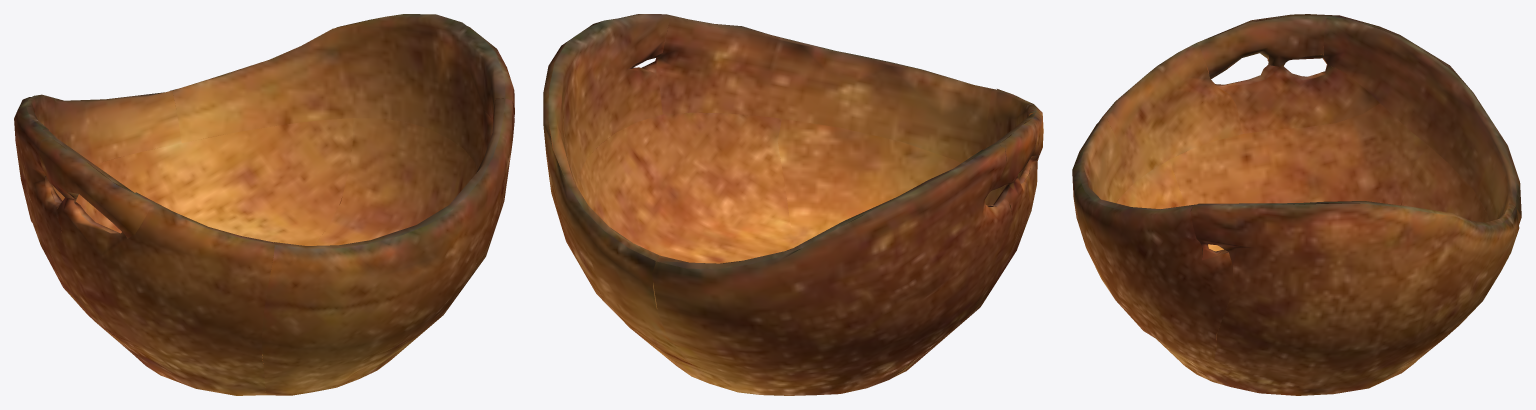
Rendered from bowl_wood.glb.
3 views of the same model, side by side, from view 1: azimuth 30°, elevation 25°; view 2: azimuth 150°, elevation 25°; view 3: azimuth 270°, elevation 25° (orthographic). The views are drawn at different scales.
Parts seen in each view (by area): view 1: bowl_wood; view 2: bowl_wood; view 3: bowl_wood.
Part boxes in pixels (box(x1,y1,x2,y2)): bowl_wood: box(14, 14, 514, 395); bowl_wood: box(543, 14, 1043, 395); bowl_wood: box(1072, 14, 1521, 395).
Size of the model in its own units: 0.1309 by 0.0735 by 0.1245.
1 material, 1 textured.
